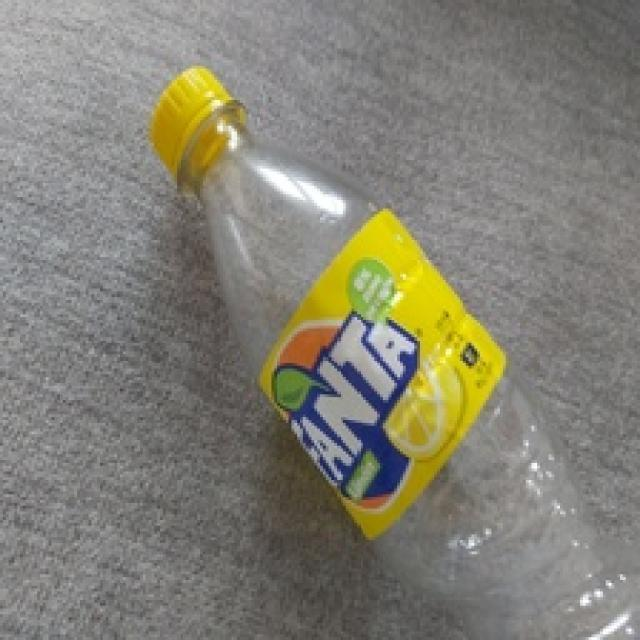Plastic: (146, 59, 640, 640)
